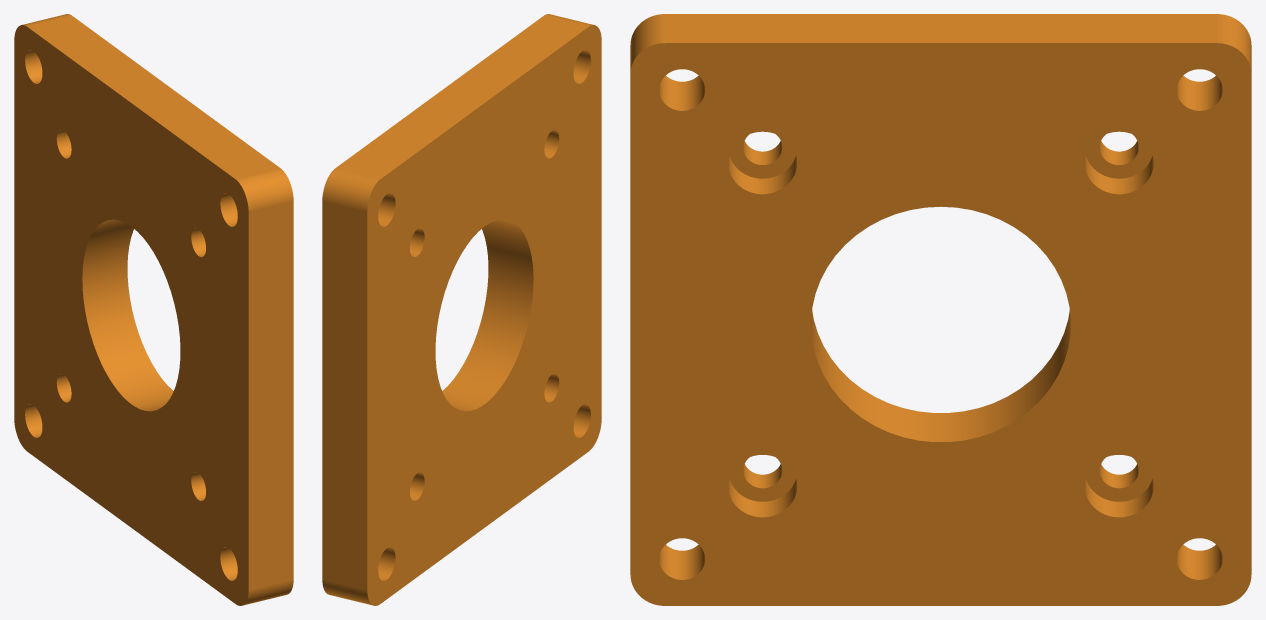
Rendered from elev_suporte_nema.glb.
The picture shows the model from 3 angles, left to right: view 1: azimuth 30°, elevation 25°; view 2: azimuth 150°, elevation 25°; view 3: azimuth 270°, elevation 25°; orthographic projection. The views are drawn at different scales.
Visible parts, largest first — view 1: elev_suporte_nema; view 2: elev_suporte_nema; view 3: elev_suporte_nema.
Boxes of the visible parts, box(x1,y1,x2,y2) form: elev_suporte_nema: box(14, 14, 293, 605); elev_suporte_nema: box(322, 14, 601, 605); elev_suporte_nema: box(630, 14, 1251, 605).
Size of the model in its own units: 6 by 54 by 54.
